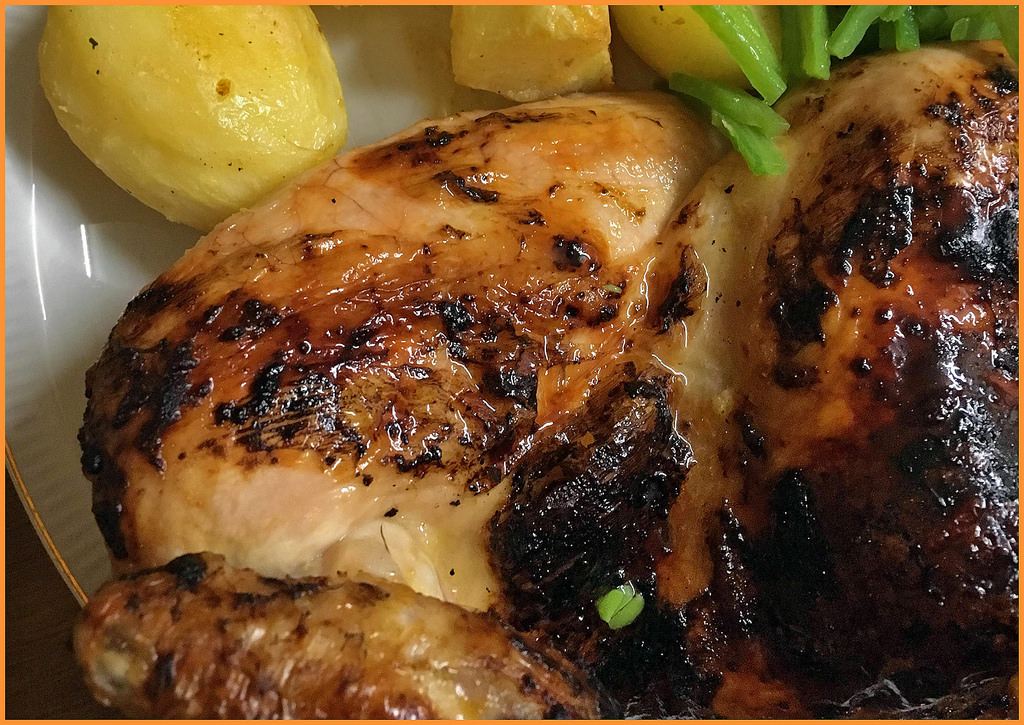boiled potatoes: (70, 21, 329, 192)
